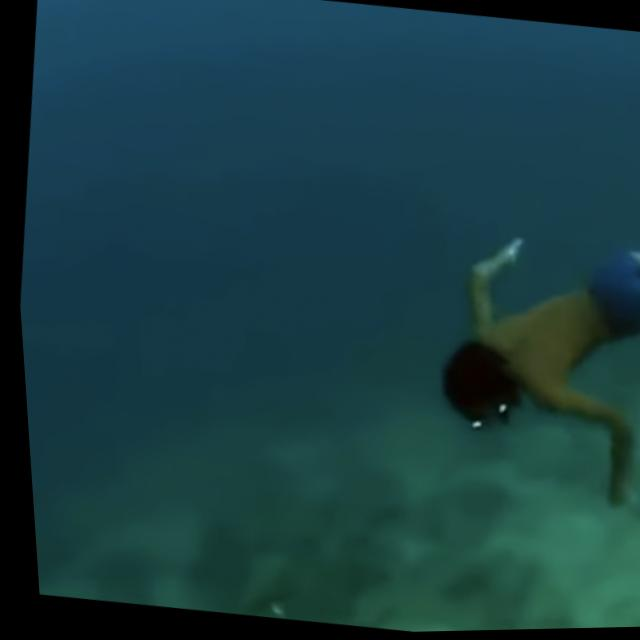human: (404, 102, 640, 521)
